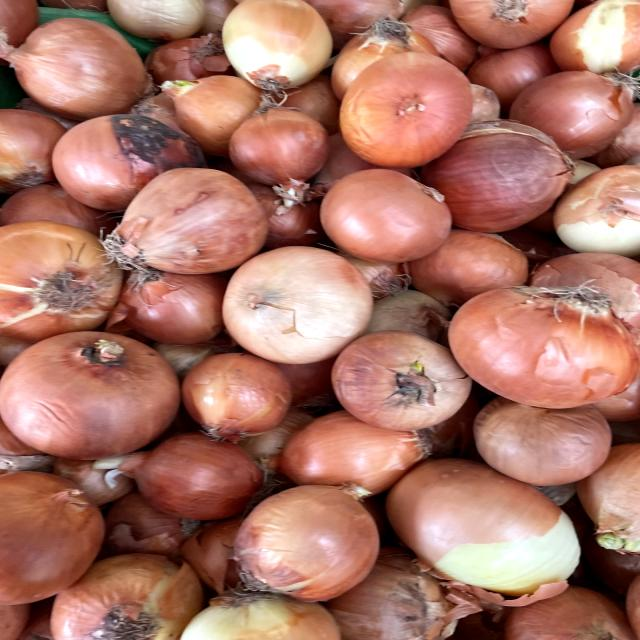onion: (0, 325, 189, 466), (214, 469, 394, 607), (217, 240, 376, 368), (329, 325, 480, 434), (315, 159, 468, 263), (221, 97, 340, 196), (222, 0, 338, 99)
